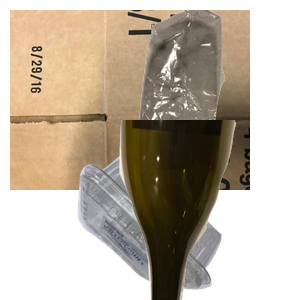cardboard: (10, 10, 250, 190)
glass: (117, 120, 300, 300)
plastic: (75, 147, 289, 300)
trash: (114, 10, 300, 190)
